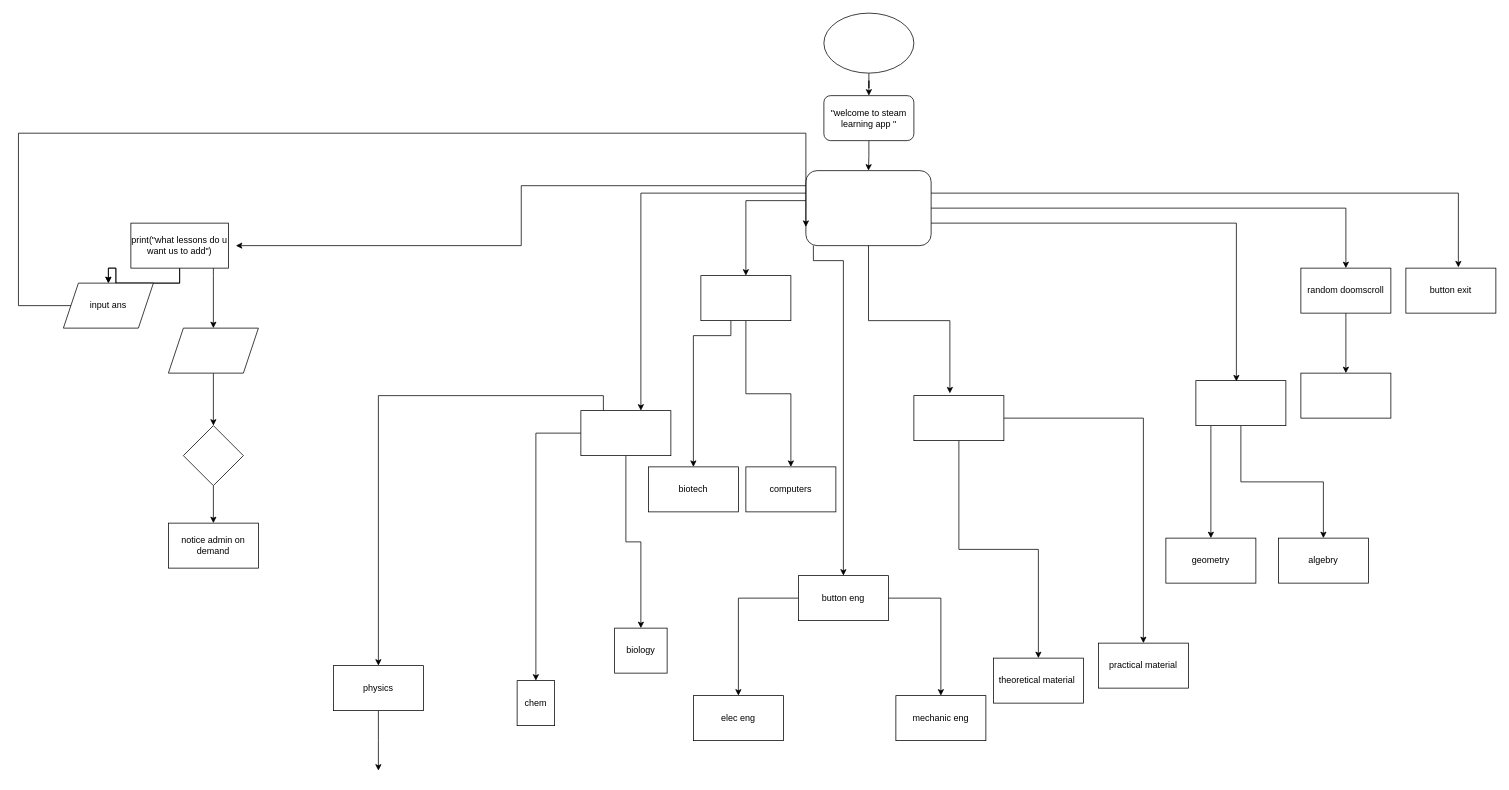
Some shapes in this 1509 by 790 pixel diagram are drawn without their labels. Each missing label, with the centre of its shape:
button arts: [958,418]
button math: [1240,403]
button sience: [625,433]
button technology: [745,298]
for every input +1: [213,350]
if num count==100: [213,455]
import random: [1345,395]
print("press leasson"): [868,208]
start: [868,42]
